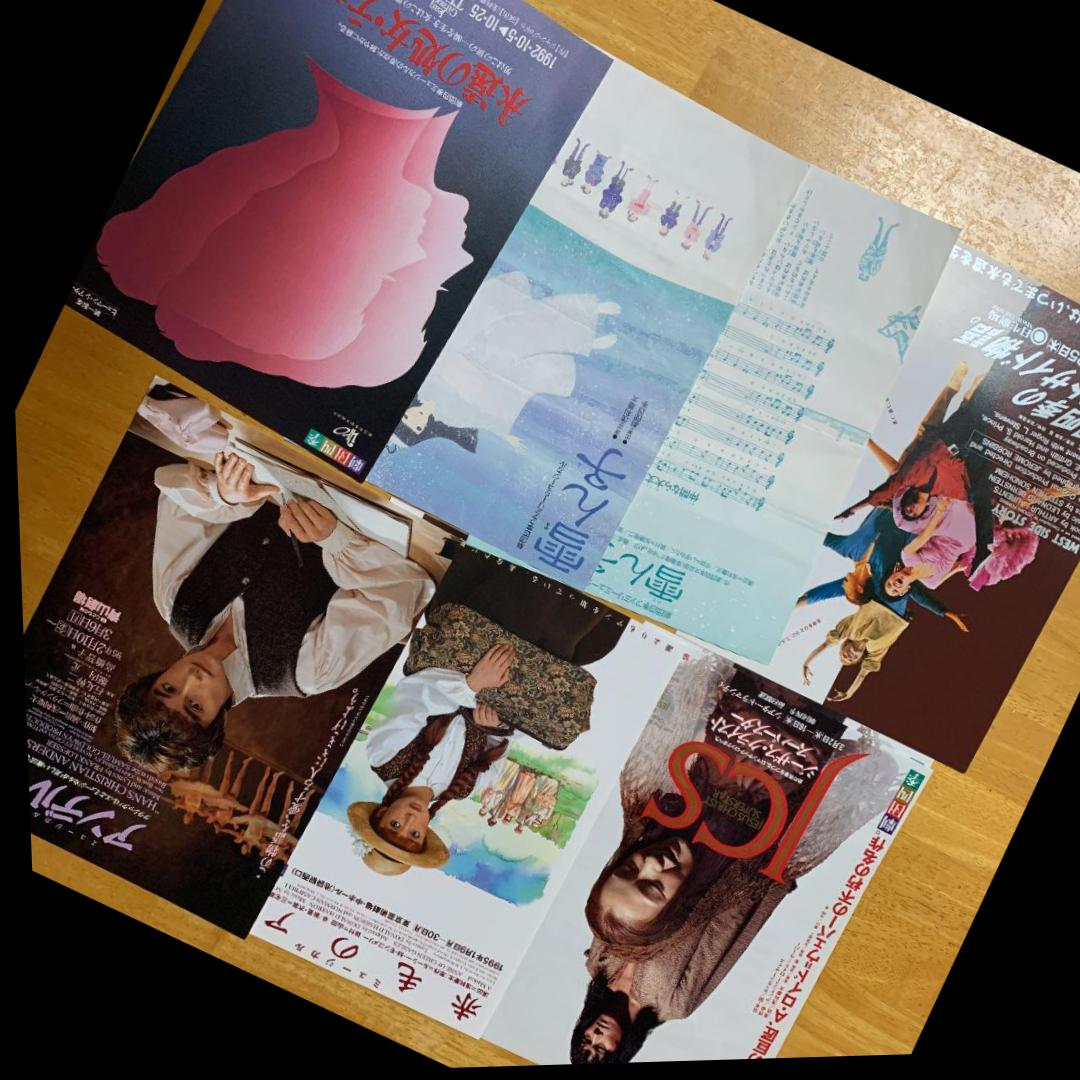paper: (34, 0, 1080, 809), (14, 350, 943, 1080)
